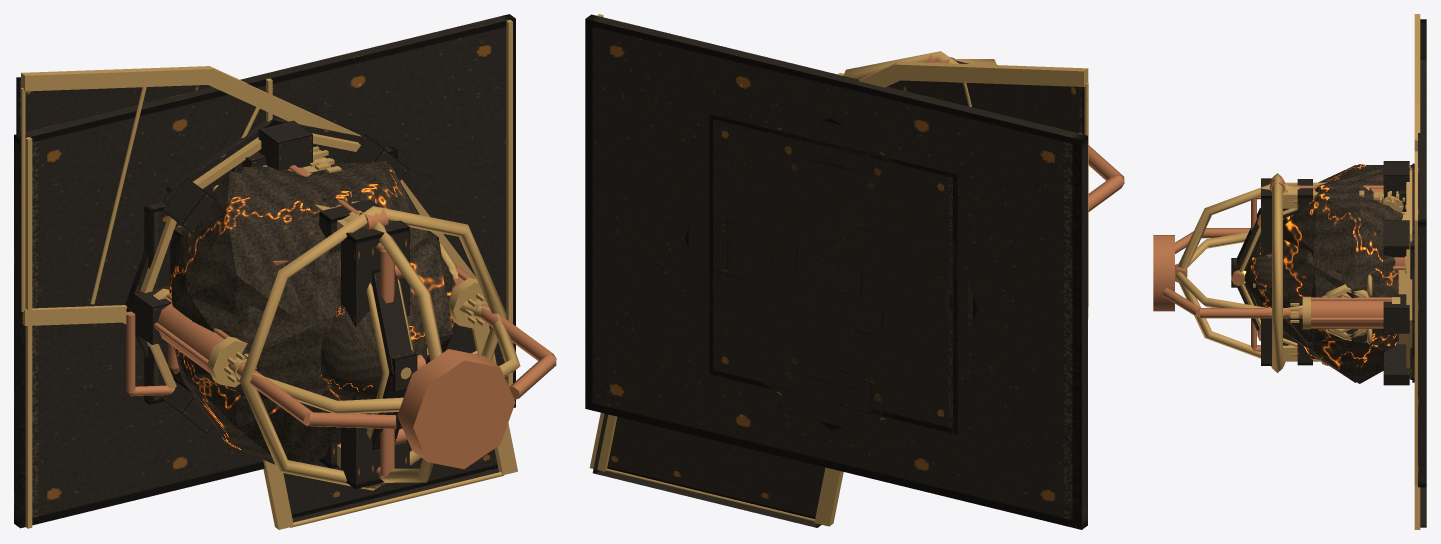
File: world-low.glb
3 views of the same model, side by side, from view 1: azimuth 30°, elevation 25°; view 2: azimuth 150°, elevation 25°; view 3: azimuth 270°, elevation 25° (orthographic). The views are drawn at different scales.
Visible parts, largest first — view 1: track-straight-root.001 / Riveted iron road.001, ore-captured-root.001 / Veined natural slate.001, reactor-root.001 / Copper feed lines.001, track-bend-root.001 / Machined brass.001, ore-small-root.001 / Veined natural slate.001, reactor-root.001 / Riveted iron.001, track-bend-root.001 / Riveted iron road.001, Gimbal bearing.005 / Machined brass.001, gantry-root.001 / Riveted iron.001, reactor-root.001 / Machined brass.001, track-straight-root.001 / Machined brass.001, Suspended mineral core.001 / Veined natural slate.001 (+11 smaller); view 2: track-straight-root.001 / Riveted iron road.001, floor-tile-root.001 / Riveted iron road.001, reactor-root.001 / Riveted iron.001, track-bend-root.001 / Riveted iron road.001, gate-marker-root.001 / Riveted iron.001, deposit-root.001 / Riveted iron.001, dock-root.001 / Riveted iron road.001, track-bend-root.001 / Machined brass.001, drop-capsule-root.001 / Riveted iron.001, finish-arch-root.001 / Riveted iron.001, kerb-root.001 / Riveted iron road.001, capture-clamp-root.001 / Riveted iron.001 (+9 smaller); view 3: ore-medium-root.001 / Veined natural slate.001, reactor-root.001 / Copper feed lines.001, reactor-root.001 / Riveted iron.001, rock-obstacle-root.001 / Veined natural slate.001, track-straight-root.001 / Riveted iron road.001, ore-small-root.001 / Veined natural slate.001, Gimbal bearing.003 / Machined brass.001, Gimbal bearing.005 / Machined brass.001, reactor-root.001 / Machined brass.001, track-bend-root.001 / Machined brass.001, gantry-root.001 / Riveted iron.001, Gimbal bearing.004 / Machined brass.001 (+11 smaller).
Part boxes in pixels (x1,y1,x2,y2): track-straight-root.001 / Riveted iron road.001: [14, 14, 515, 528]; ore-captured-root.001 / Veined natural slate.001: [174, 171, 352, 464]; reactor-root.001 / Copper feed lines.001: [126, 264, 556, 469]; track-bend-root.001 / Machined brass.001: [21, 66, 517, 529]; ore-small-root.001 / Veined natural slate.001: [192, 178, 451, 400]; reactor-root.001 / Riveted iron.001: [125, 118, 438, 433]; track-bend-root.001 / Riveted iron road.001: [16, 77, 498, 522]; Gimbal bearing.005 / Machined brass.001: [239, 206, 507, 490]; gantry-root.001 / Riveted iron.001: [232, 162, 409, 489]; reactor-root.001 / Machined brass.001: [140, 133, 488, 388]; track-straight-root.001 / Machined brass.001: [25, 19, 512, 528]; Suspended mineral core.001 / Veined natural slate.001: [321, 305, 427, 400]; track-straight-root.001 / Riveted iron road.001: [585, 14, 1087, 529]; floor-tile-root.001 / Riveted iron road.001: [709, 114, 957, 434]; reactor-root.001 / Riveted iron.001: [684, 118, 977, 429]; track-bend-root.001 / Riveted iron road.001: [592, 80, 1084, 527]; gate-marker-root.001 / Riveted iron.001: [710, 156, 953, 397]; deposit-root.001 / Riveted iron.001: [722, 157, 936, 390]; dock-root.001 / Riveted iron road.001: [727, 160, 937, 388]; track-bend-root.001 / Machined brass.001: [589, 61, 1088, 526]; drop-capsule-root.001 / Riveted iron.001: [771, 210, 888, 337]; finish-arch-root.001 / Riveted iron.001: [797, 137, 870, 412]; kerb-root.001 / Riveted iron road.001: [709, 218, 957, 328]; capture-clamp-root.001 / Riveted iron.001: [796, 249, 861, 296]; ore-medium-root.001 / Veined natural slate.001: [1283, 171, 1398, 382]; reactor-root.001 / Copper feed lines.001: [1153, 228, 1391, 328]; reactor-root.001 / Riveted iron.001: [1383, 161, 1414, 385]; rock-obstacle-root.001 / Veined natural slate.001: [1342, 164, 1398, 383]; track-straight-root.001 / Riveted iron road.001: [1418, 58, 1426, 487]; ore-small-root.001 / Veined natural slate.001: [1270, 184, 1402, 359]; Gimbal bearing.003 / Machined brass.001: [1177, 184, 1292, 358]; Gimbal bearing.005 / Machined brass.001: [1272, 173, 1282, 372]; reactor-root.001 / Machined brass.001: [1290, 167, 1412, 378]; track-bend-root.001 / Machined brass.001: [1414, 14, 1420, 529]; gantry-root.001 / Riveted iron.001: [1261, 178, 1271, 365]; Gimbal bearing.004 / Machined brass.001: [1175, 232, 1302, 315].
Bounding box in the file's own units: 4 × 4 × 2.8.
Materials: 11 (4 with a texture image).
